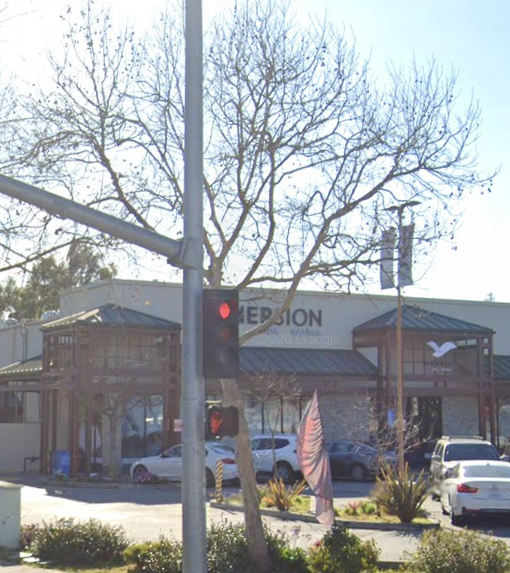red_light: (204, 291, 239, 376)
